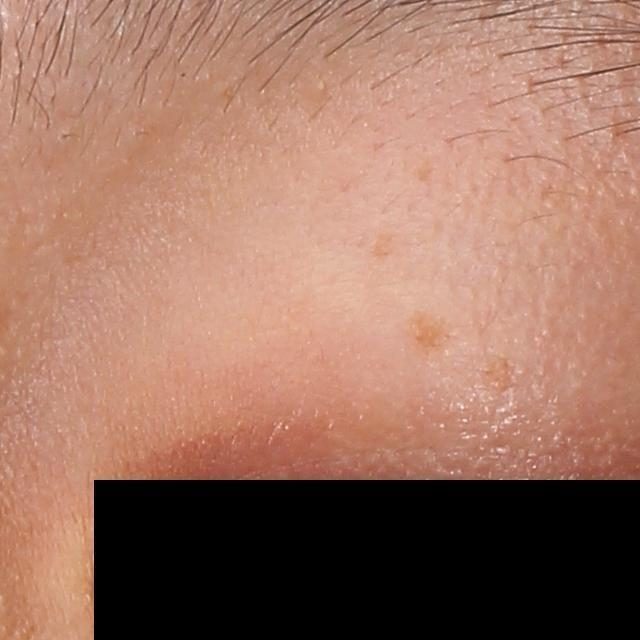melasma: (405, 306, 449, 357), (479, 349, 518, 396), (371, 229, 401, 259)
